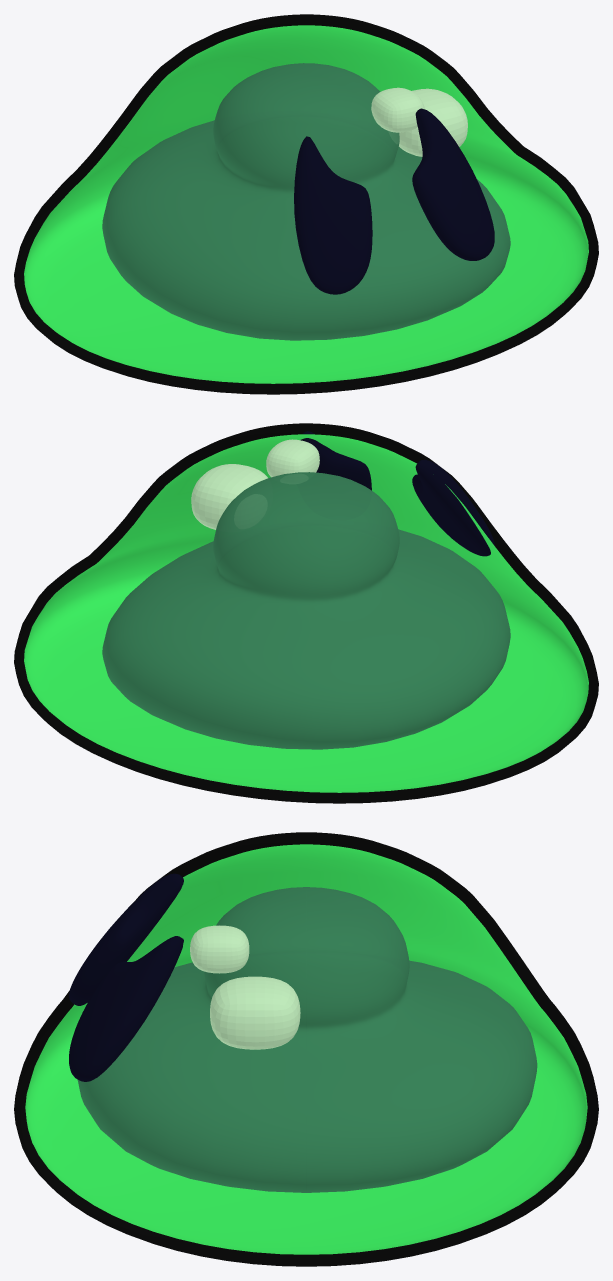
File: yet_another_slime_and_yet_another_green_one.glb
3 renders of one model, top to bottom at view 1: azimuth 30°, elevation 25°; view 2: azimuth 150°, elevation 25°; view 3: azimuth 270°, elevation 25°, orthographic. The views are drawn at different scales.
Parts seen in each view (by area): view 1: Cube, Sphere, Sphere.001, Cube.003, Cube.001; view 2: Cube, Sphere, Sphere.001, Cube.003, Cube.001; view 3: Cube, Sphere, Sphere.001, Cube.003, Cube.001.
Boxes of the visible parts, x1,y1,x2,y2 form: Cube: (102,63,510,340); Sphere: (24,25,588,383); Sphere.001: (14,14,598,394); Cube.003: (294,108,494,294); Cube.001: (371,87,467,156); Cube: (102,472,510,749); Sphere: (24,434,588,792); Sphere.001: (14,423,598,803); Cube.003: (300,431,494,556); Cube.001: (191,439,319,529); Cube: (77,887,537,1192); Sphere: (25,844,587,1254); Sphere.001: (14,832,598,1266); Cube.003: (69,873,183,1081); Cube.001: (190,925,300,1049).
Size of the model in its own units: 2.74 by 1.33 by 2.4.
